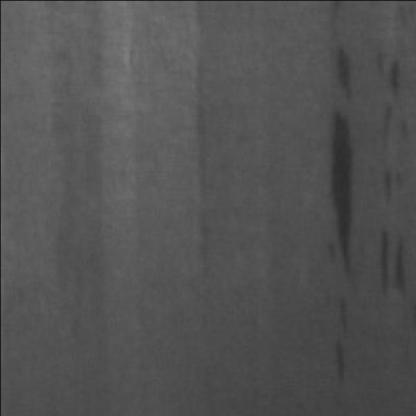inclusion: (56, 13, 117, 376), (183, 4, 229, 283), (324, 96, 374, 285), (322, 283, 362, 393), (378, 102, 414, 220), (374, 216, 412, 302), (376, 40, 412, 106), (330, 37, 360, 100)
